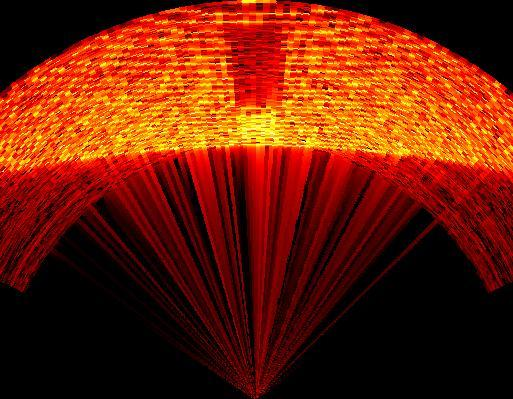box_crate: (223, 25, 292, 113)
